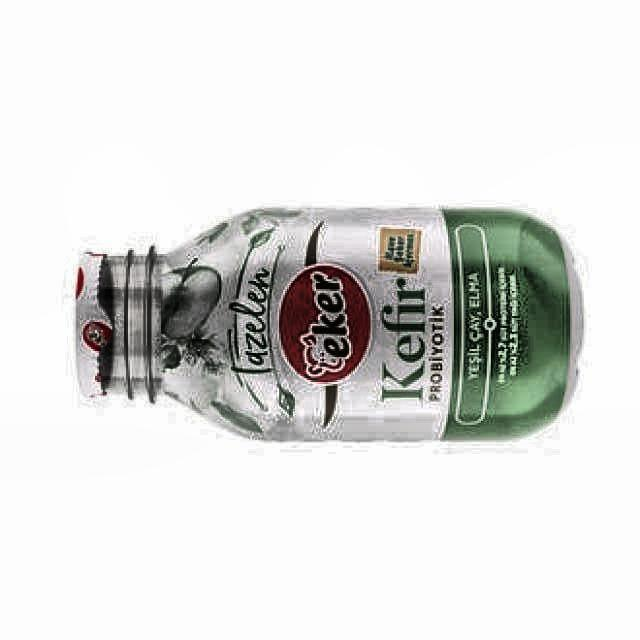plastic: (75, 209, 582, 440)
